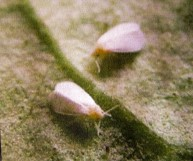whitefly: (49, 80, 119, 139), (87, 22, 146, 75)
